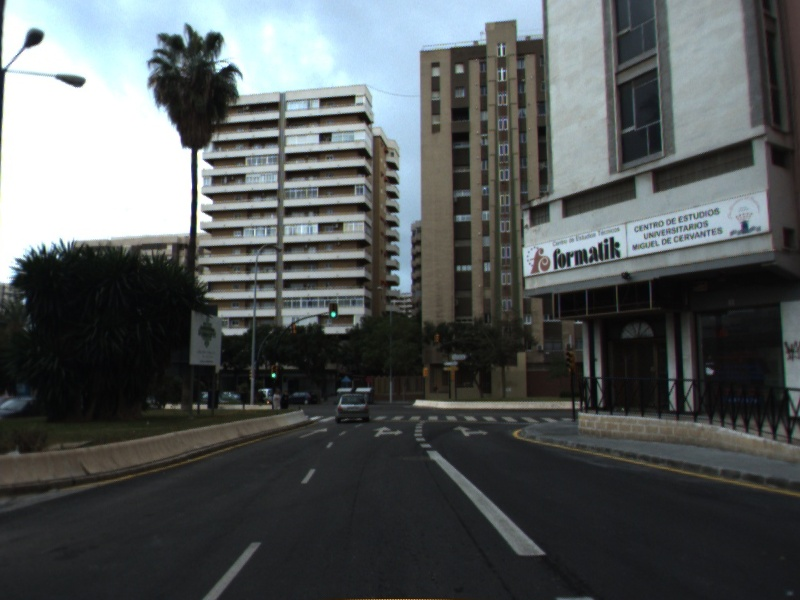STRAIGHT: (296, 425, 330, 440)
STRAIGHT_RIGHT: (451, 423, 491, 438), (370, 424, 406, 439)
